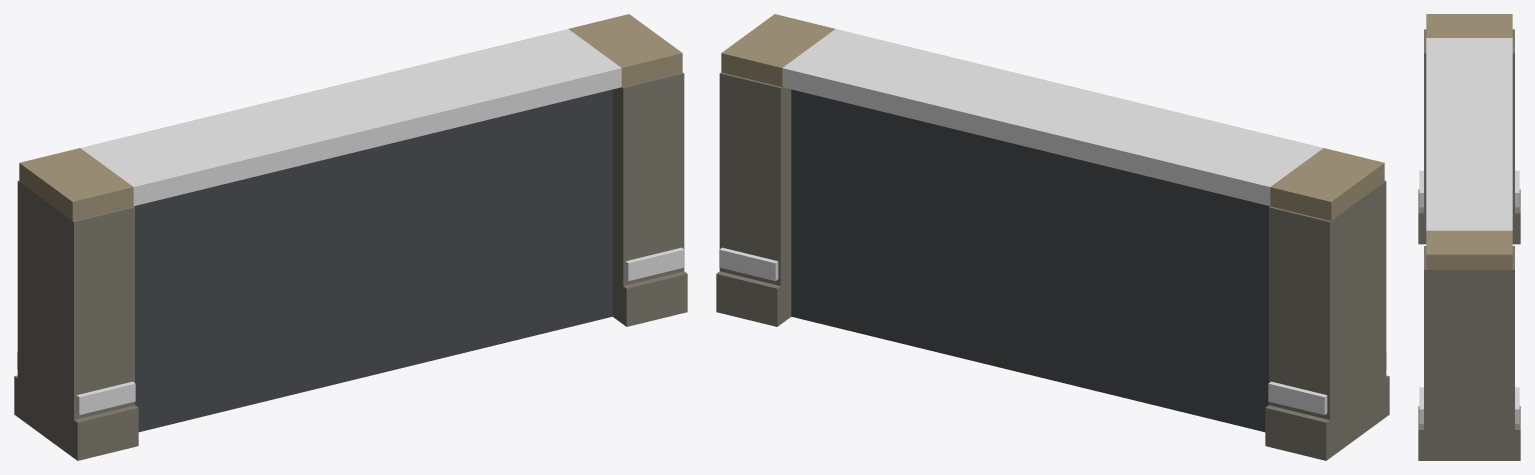
The model's file is RF_Structure_Door_Intact.glb.
The picture shows the model from 3 angles, left to right: view 1: azimuth 30°, elevation 25°; view 2: azimuth 150°, elevation 25°; view 3: azimuth 270°, elevation 25°; orthographic projection. The views are drawn at different scales.
Visible parts, largest first — view 1: Leaf, RF_Structure_Door_Intact, TeamTrim, TeamTrim.001; view 2: Leaf, RF_Structure_Door_Intact, TeamTrim, TeamTrim.001; view 3: RF_Structure_Door_Intact, TeamTrim, TeamTrim.001.
Boxes of the visible parts, x1,y1,x2,y2 form: Leaf: (134,89,612,432); RF_Structure_Door_Intact: (14,14,687,460); TeamTrim: (81,29,621,205); TeamTrim.001: (17,247,684,414); Leaf: (791,89,1269,432); RF_Structure_Door_Intact: (716,14,1389,460); TeamTrim: (782,29,1322,205); TeamTrim.001: (719,247,1386,414); RF_Structure_Door_Intact: (1418,14,1520,460); TeamTrim: (1426,38,1512,230); TeamTrim.001: (1419,170,1519,423).
Size of the model in its own units: 5 by 2 by 0.9.
